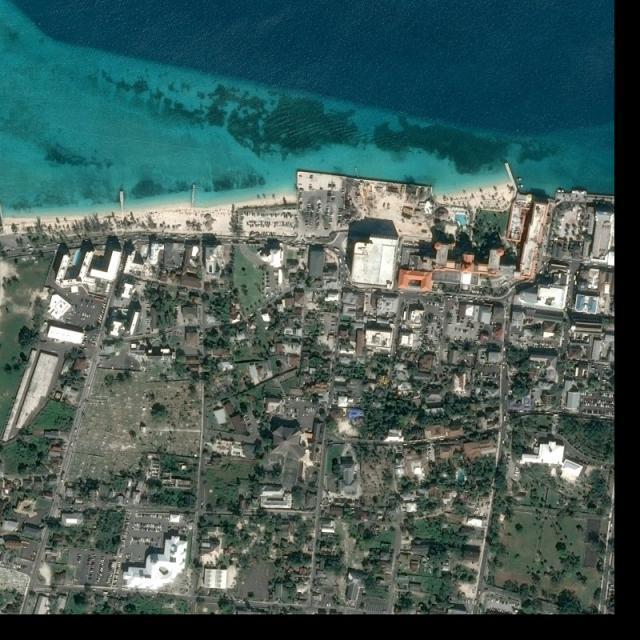ship: (571, 189, 588, 196), (557, 190, 565, 194), (516, 178, 523, 182), (518, 185, 525, 189)
